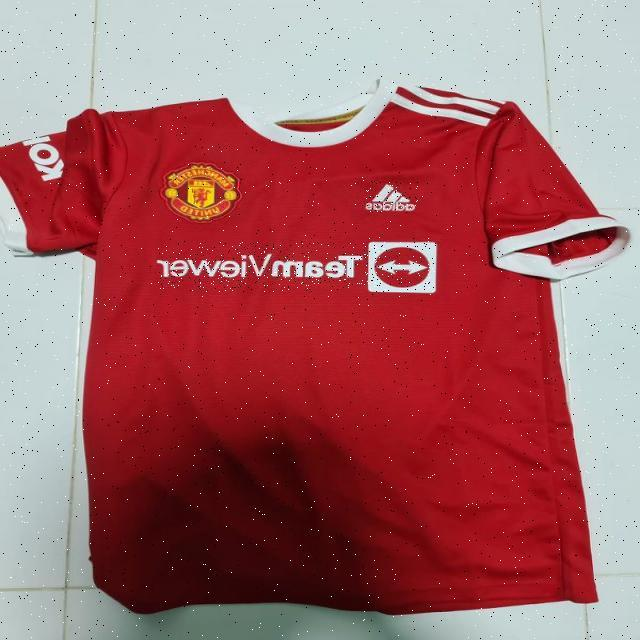Adidas: (366, 181, 418, 213)
TeamViewer: (158, 242, 436, 292)
